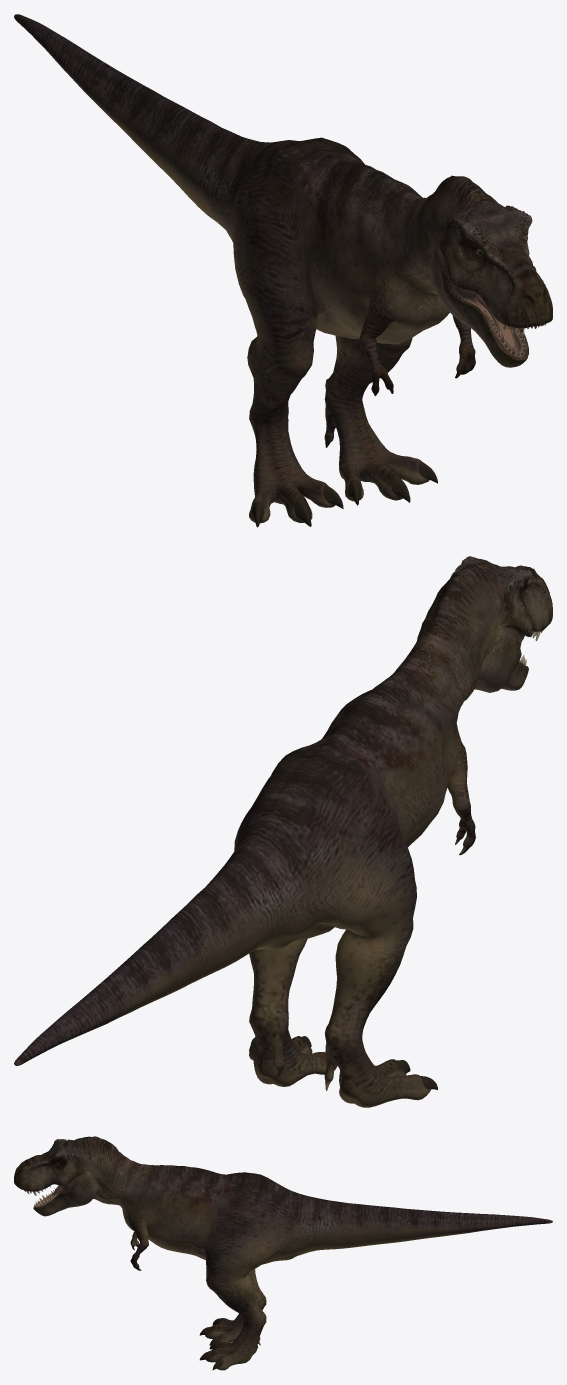
File: tyrannosaurus.glb
The picture shows the model from 3 angles, top to bottom: view 1: azimuth 30°, elevation 25°; view 2: azimuth 150°, elevation 25°; view 3: azimuth 270°, elevation 25°; orthographic projection. The views are drawn at different scales.
Visible parts, largest first — view 1: Object_4; view 2: Object_4; view 3: Object_4.
Boxes of the visible parts, x1=… form: Object_4: x1=14, y1=14, x2=552, y2=527; Object_4: x1=14, y1=556, x2=552, y2=1107; Object_4: x1=14, y1=1136, x2=552, y2=1370.
Size of the model in its own units: 2.68 by 5.89 by 13.51.
Materials: 1 (1 with a texture image).
